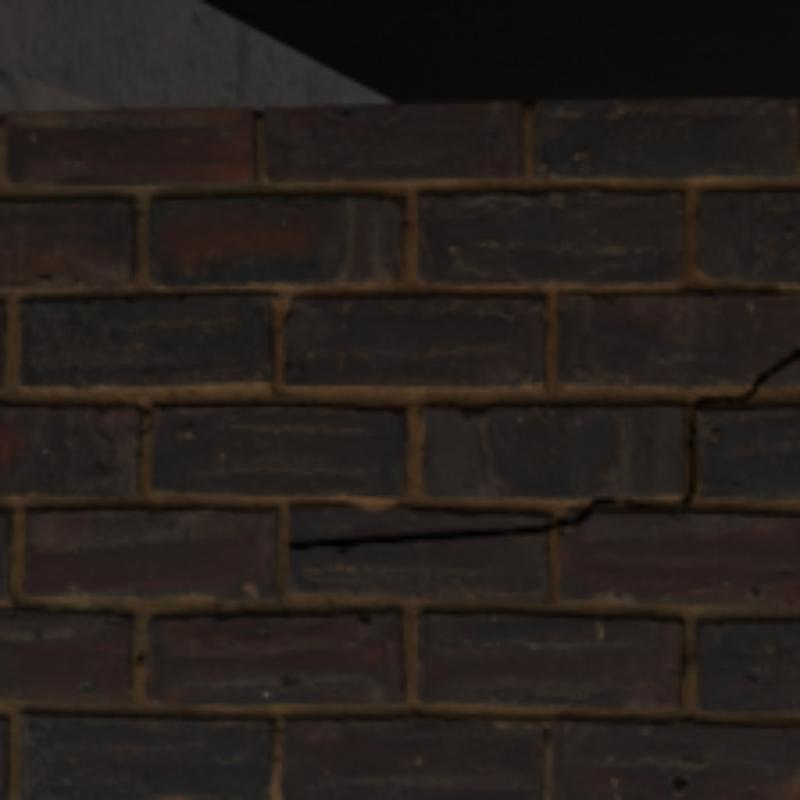pothole: (289, 482, 693, 546), (686, 350, 796, 454)
